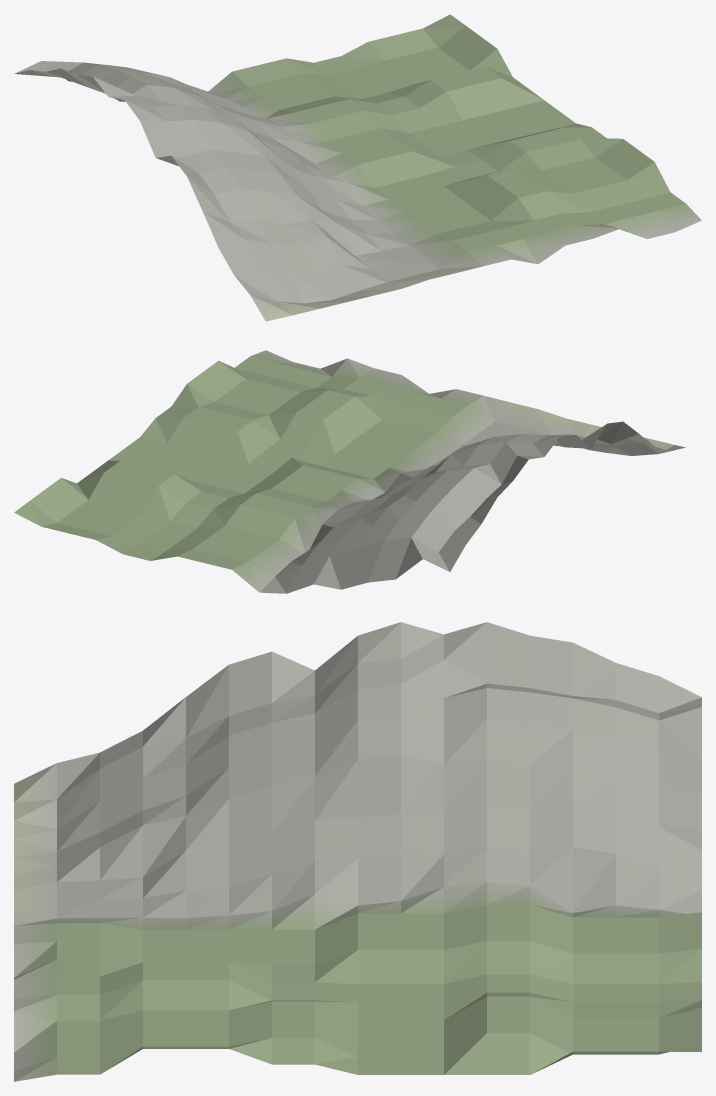
3 views of the same model, one above another, from view 1: azimuth 30°, elevation 25°; view 2: azimuth 150°, elevation 25°; view 3: azimuth 270°, elevation 25° (orthographic). The views are drawn at different scales.
Size of the model in its own units: 32 by 9.04 by 32.
